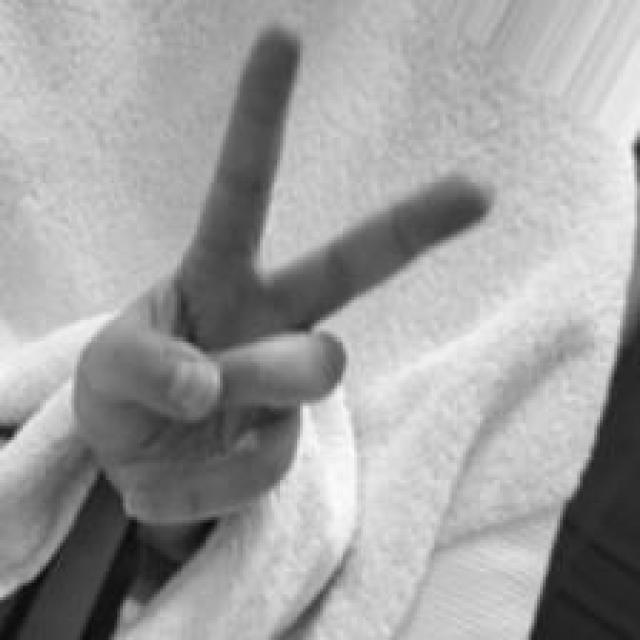V: (72, 18, 498, 523)
